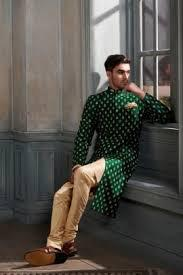Design Sherwani: (70, 83, 173, 216)
